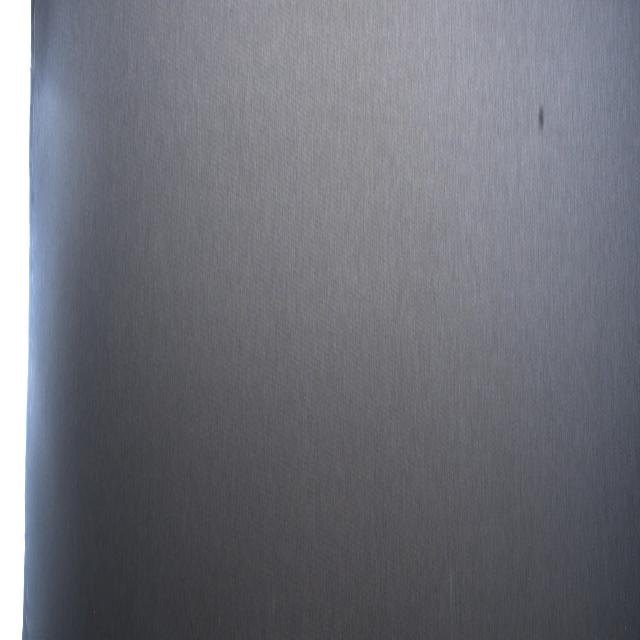whiteDefect: (444, 565, 454, 637)
